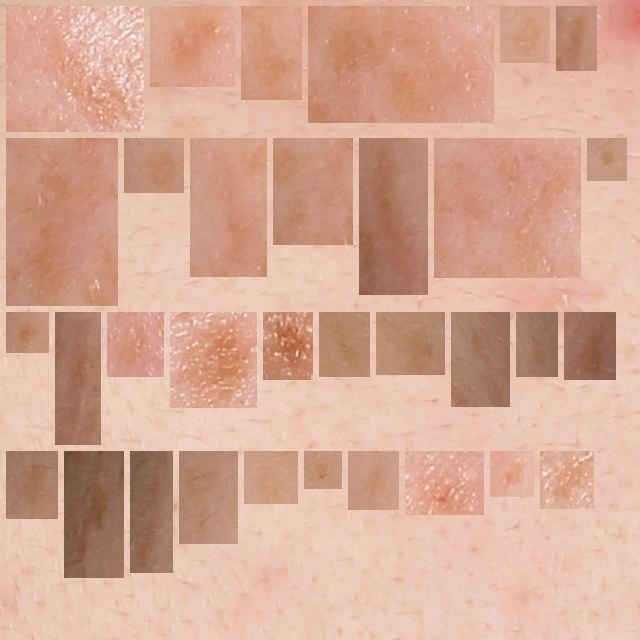melasma: (316, 14, 486, 115), (442, 146, 573, 270), (14, 146, 110, 298), (14, 14, 136, 124), (198, 146, 259, 269), (367, 146, 420, 287), (281, 146, 345, 237), (178, 320, 249, 400), (72, 459, 116, 570), (158, 14, 227, 79), (249, 14, 294, 92), (63, 320, 93, 437), (459, 320, 502, 399), (187, 459, 230, 536), (413, 459, 476, 507), (138, 459, 165, 565), (384, 320, 437, 367), (115, 320, 156, 369), (572, 320, 608, 372), (14, 459, 50, 511), (271, 320, 305, 372), (132, 146, 176, 185), (327, 320, 362, 369), (548, 459, 586, 501), (356, 459, 391, 502), (252, 459, 290, 496), (508, 14, 542, 55), (524, 320, 550, 369), (564, 14, 589, 63), (498, 459, 526, 489), (14, 320, 41, 345), (595, 146, 619, 173), (312, 459, 334, 481)
